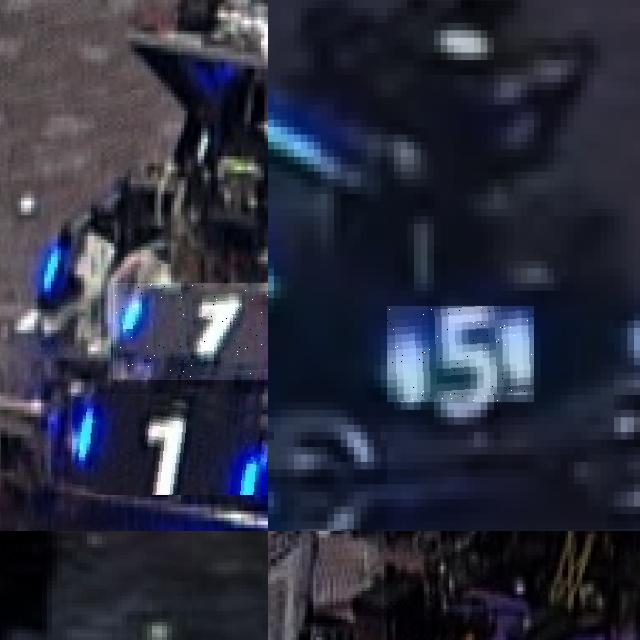B1: (72, 394, 268, 495), (112, 282, 268, 380)
B5: (387, 306, 534, 402)
